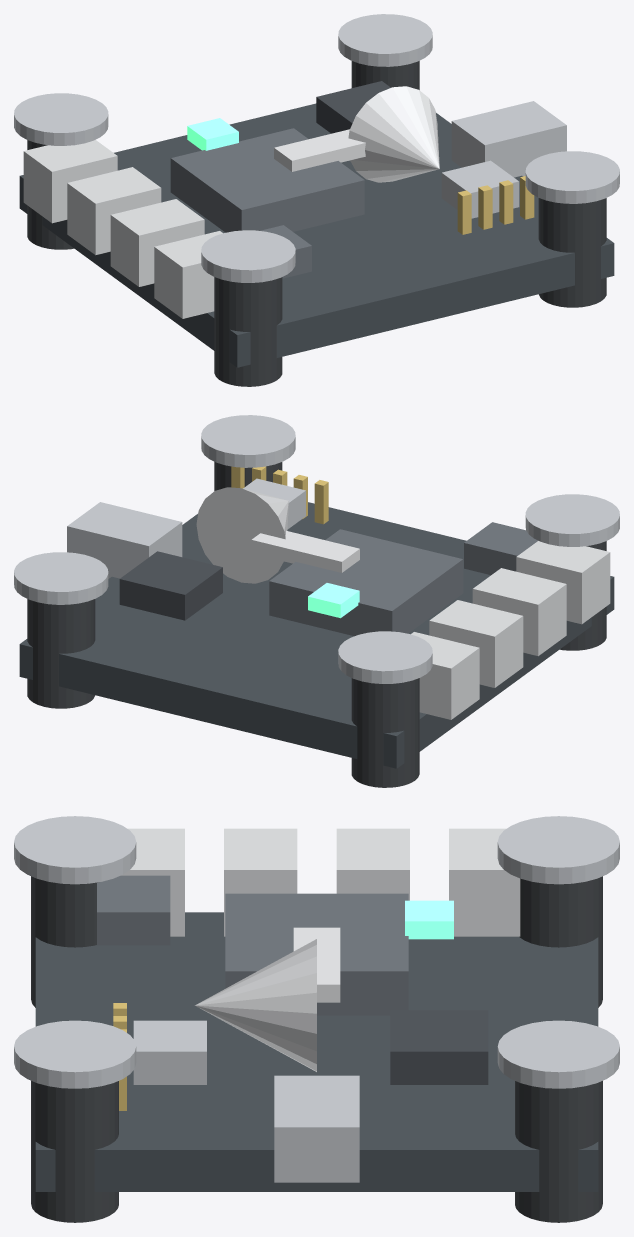
The picture shows the model from 3 angles, top to bottom: view 1: azimuth 30°, elevation 25°; view 2: azimuth 150°, elevation 25°; view 3: azimuth 270°, elevation 25°; orthographic projection. The views are drawn at different scales.
Parts seen in each view (by area): view 1: pcb, mcu, arrow_tip, damper_0_1, usb_shell, damper_1_1, jst_2, jst_1, jst_0, washer_0_0, washer_1_0, washer_1_1 (+12 smaller); view 2: pcb, mcu, arrow_tip, damper_0_0, usb_shell, damper_1_0, imu, jst_1, jst_2, jst_3, washer_0_1, washer_1_1 (+10 smaller); view 3: pcb, mcu, damper_1_0, damper_1_1, usb_shell, arrow_tip, imu, washer_1_0, washer_1_1, washer_0_0, washer_0_1, jst_0 (+9 smaller).
Boxes of the visible parts, x1=… form: pcb: x1=19, y1=103, x2=614, y2=367; mcu: x1=170, y1=128, x2=364, y2=232; arrow_tip: x1=348, y1=86, x2=439, y2=182; damper_0_1: x1=214, y1=277, x2=282, y2=386; usb_shell: x1=451, y1=101, x2=566, y2=177; damper_1_1: x1=538, y1=198, x2=606, y2=307; jst_2: x1=110, y1=199, x2=204, y2=286; jst_1: x1=67, y1=167, x2=161, y2=255; jst_0: x1=23, y1=140, x2=117, y2=223; washer_0_0: x1=14, y1=93, x2=108, y2=145; washer_1_0: x1=338, y1=14, x2=432, y2=66; washer_1_1: x1=525, y1=151, x2=619, y2=203; pcb: x1=19, y1=502, x2=614, y2=768; mcu: x1=269, y1=529, x2=463, y2=636; arrow_tip: x1=196, y1=487, x2=288, y2=583; damper_0_0: x1=351, y1=678, x2=419, y2=787; usb_shell: x1=67, y1=502, x2=182, y2=578; damper_1_0: x1=27, y1=599, x2=95, y2=708; imu: x1=119, y1=551, x2=222, y2=620; jst_1: x1=429, y1=600, x2=523, y2=687; jst_2: x1=472, y1=568, x2=566, y2=656; jst_3: x1=516, y1=541, x2=610, y2=624; washer_0_1: x1=525, y1=494, x2=619, y2=546; washer_1_1: x1=201, y1=415, x2=295, y2=467; pcb: x1=35, y1=912, x2=598, y2=1191; mcu: x1=225, y1=893, x2=408, y2=1015; damper_1_0: x1=515, y1=1081, x2=602, y2=1222; damper_1_1: x1=31, y1=1081, x2=118, y2=1222; usb_shell: x1=274, y1=1075, x2=359, y2=1182; arrow_tip: x1=195, y1=939, x2=316, y2=1071; imu: x1=390, y1=1010, x2=488, y2=1084; washer_1_0: x1=497, y1=1020, x2=619, y2=1088; washer_1_1: x1=14, y1=1020, x2=136, y2=1088; washer_0_0: x1=497, y1=816, x2=619, y2=884; washer_0_1: x1=14, y1=816, x2=136, y2=884; jst_0: x1=449, y1=828, x2=520, y2=936.
Size of the model in its own units: 0.0545 by 0.0185 by 0.0496.
